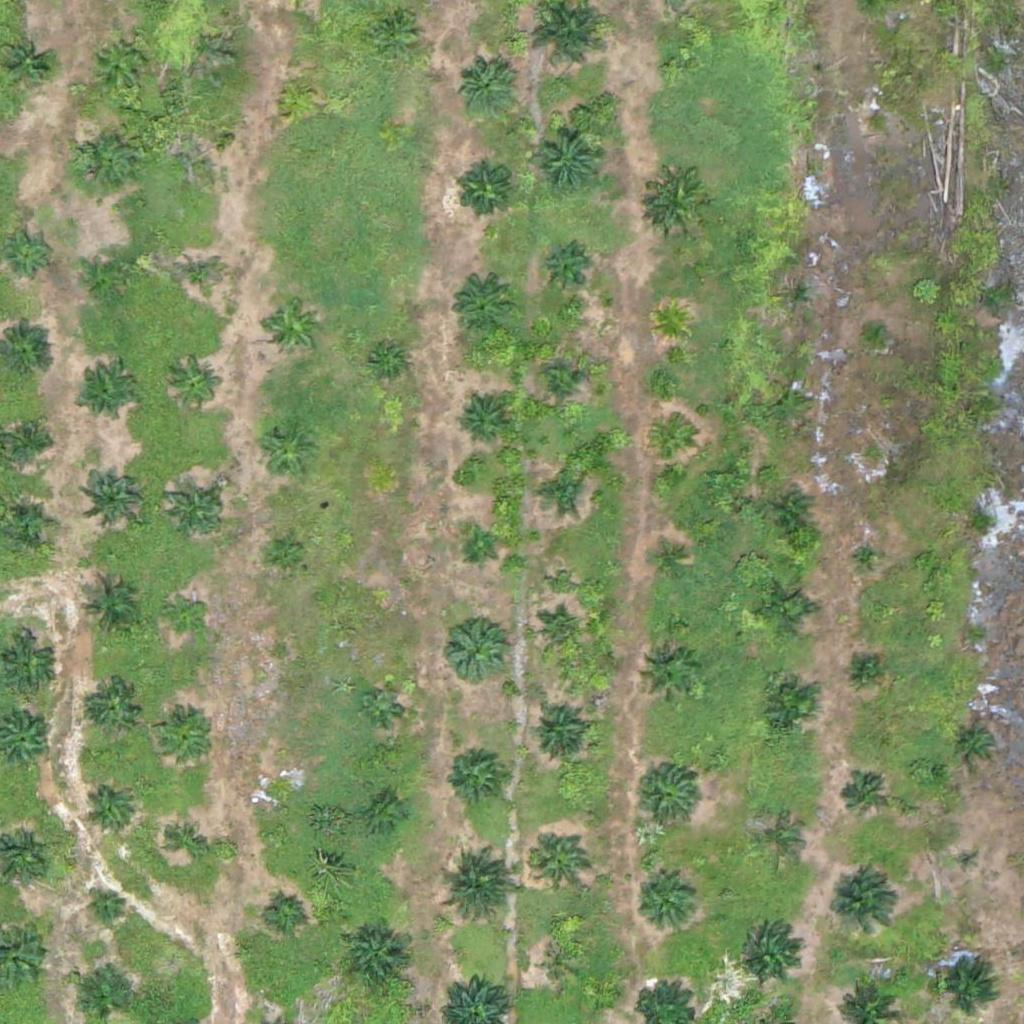Kelapa_Sawit: (825, 871, 900, 947), (437, 852, 512, 927), (529, 120, 604, 195), (443, 616, 506, 679), (254, 420, 317, 483), (455, 55, 518, 118), (646, 172, 709, 235), (934, 948, 997, 1011), (71, 129, 134, 192), (261, 297, 324, 360), (76, 365, 138, 428), (342, 926, 404, 989), (444, 743, 506, 806), (77, 578, 139, 641), (164, 479, 226, 542), (80, 462, 142, 525), (449, 275, 511, 338), (453, 158, 515, 221), (527, 700, 589, 763), (740, 922, 802, 985), (637, 644, 699, 707), (757, 677, 819, 740), (635, 764, 697, 827), (639, 875, 701, 938), (529, 829, 591, 892), (89, 32, 151, 95), (756, 578, 818, 641), (170, 358, 220, 409), (455, 396, 505, 447), (532, 466, 582, 517), (838, 770, 888, 821), (174, 252, 224, 303), (86, 250, 136, 301), (4, 227, 54, 278), (90, 681, 140, 731), (160, 713, 210, 763), (536, 246, 586, 296), (369, 5, 419, 55), (753, 815, 803, 865), (952, 718, 1002, 768), (533, 609, 583, 659), (537, 360, 587, 410), (2, 416, 52, 466), (4, 500, 54, 550), (85, 785, 135, 835), (88, 887, 126, 925), (652, 303, 690, 341), (850, 540, 888, 578), (774, 492, 812, 530), (654, 425, 692, 463), (653, 545, 691, 583), (770, 383, 808, 421), (278, 75, 316, 113), (369, 346, 407, 384), (165, 598, 203, 636), (263, 781, 301, 819), (169, 823, 207, 861), (368, 797, 405, 835), (543, 946, 580, 984), (268, 895, 306, 932), (779, 277, 816, 315), (460, 529, 497, 567), (185, 127, 222, 165), (268, 535, 305, 572), (363, 685, 400, 722), (852, 656, 877, 682), (864, 317, 889, 342), (861, 108, 886, 133), (662, 55, 687, 80), (956, 846, 981, 871)
